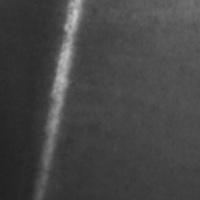scratches: (32, 0, 88, 199)
